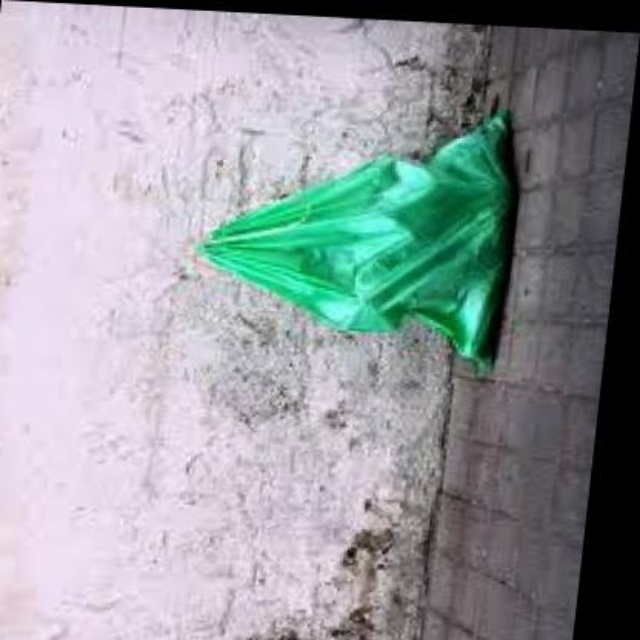trash: (198, 109, 515, 368)
